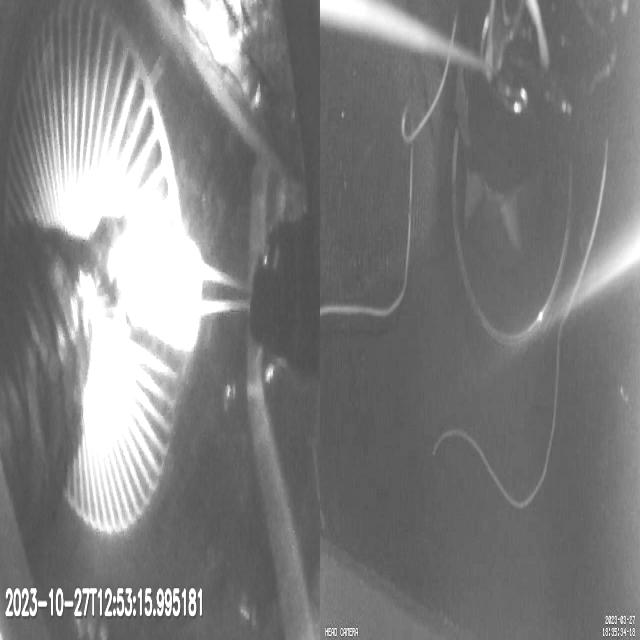head: (120, 215, 202, 352)
